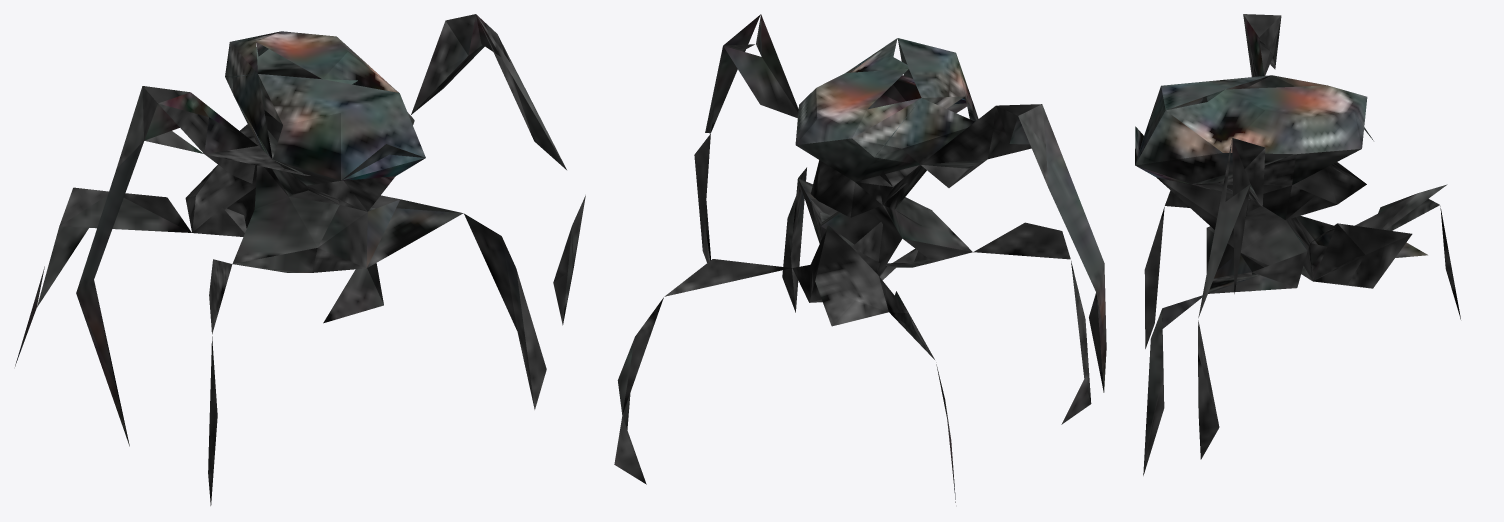
Rendered from enemy_walker_580279005_lod1.glb.
3 renders of one model, left to right at view 1: azimuth 30°, elevation 25°; view 2: azimuth 150°, elevation 25°; view 3: azimuth 270°, elevation 25°, orthographic. The views are drawn at different scales.
Size of the model in its own units: 6.94 by 5.71 by 4.9.
1 material, 1 textured.
